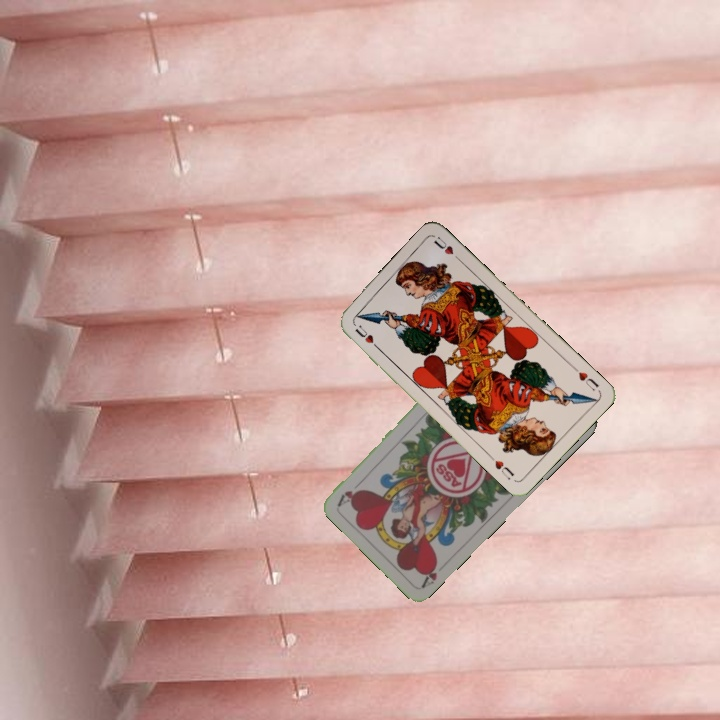HA: (418, 557, 440, 590)
HU: (569, 363, 601, 394), (351, 321, 376, 346)
